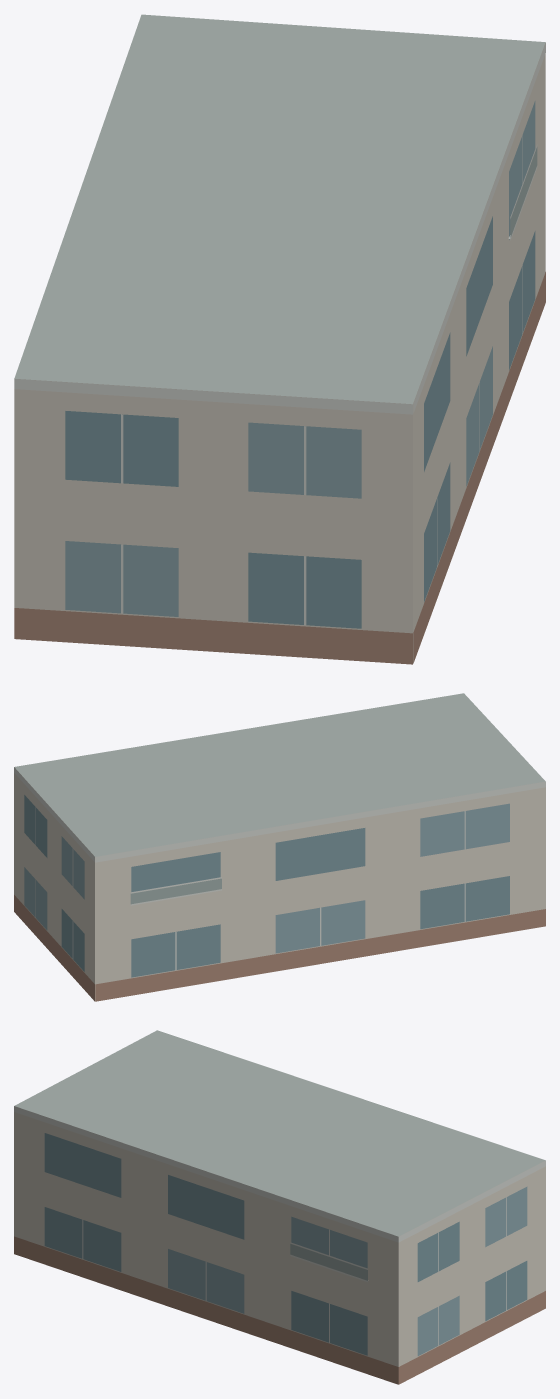
File: survey-upis-32884761.glb
3 views of the same model, one above another, from view 1: azimuth 30°, elevation 25°; view 2: azimuth 150°, elevation 25°; view 3: azimuth 270°, elevation 25° (orthographic). The views are drawn at different scales.
Parts seen in each view (by area): view 1: survey-upis-32884761.tmp; view 2: survey-upis-32884761.tmp; view 3: survey-upis-32884761.tmp.
Boxes of the visible parts, x1,y1,x2,y2 form: survey-upis-32884761.tmp: (14,14,545,664); survey-upis-32884761.tmp: (14,693,545,1001); survey-upis-32884761.tmp: (14,1030,545,1384).
Bounding box in the file's own units: 18.25 × 6.1 × 19.86.
